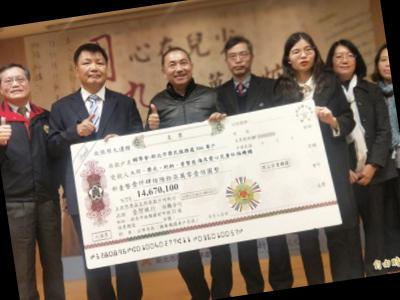without_mask: (76, 54, 111, 89), (163, 56, 194, 87), (287, 44, 318, 73), (225, 47, 255, 76), (330, 50, 359, 77), (375, 54, 392, 80)
